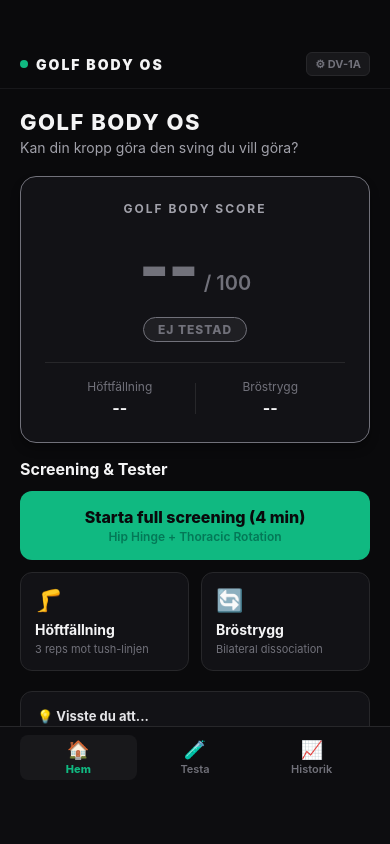
Test: screens without a tab bar still keep clear of the navigation bar
Click the text "⚙ DV-1A" at (338, 64), box left=315, top=57, right=361, bottom=71
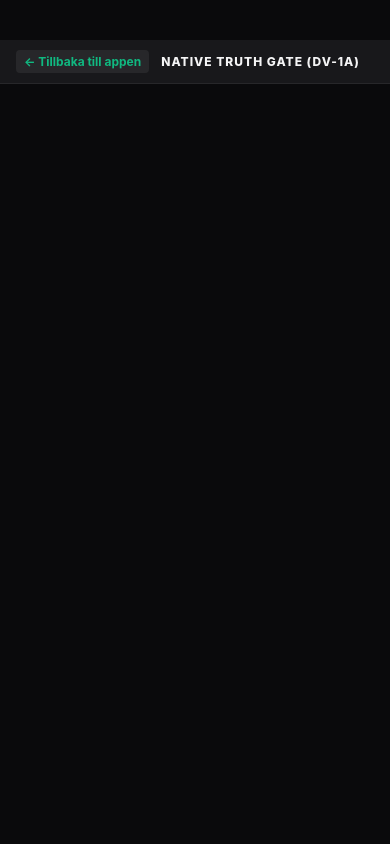
Now the element with test id "tab-bar" is gone
